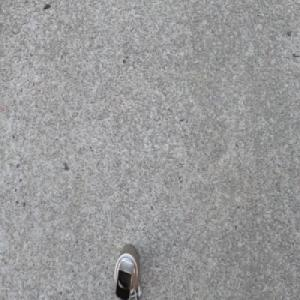MetalPart: (112, 241, 143, 300)
